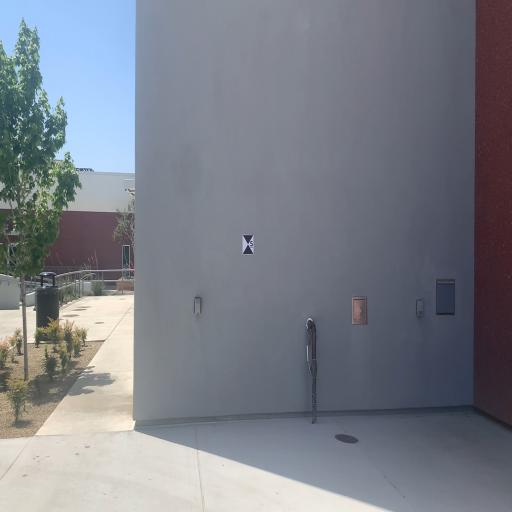target5: (242, 234, 254, 257)
